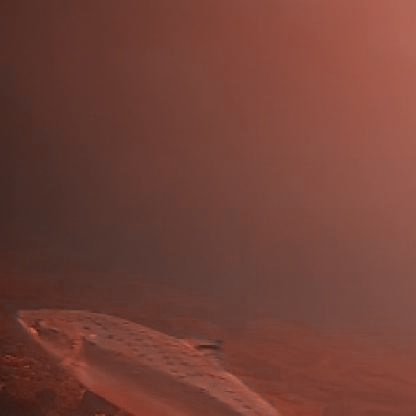salmon: (10, 300, 288, 414)
